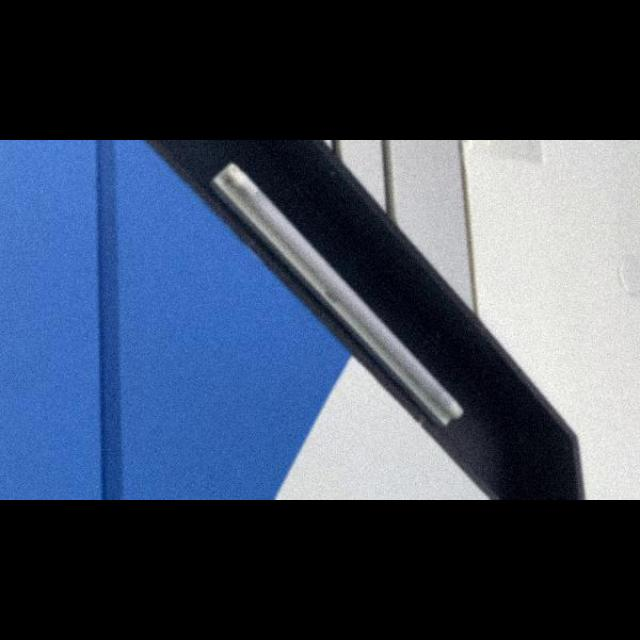Straight-Tube-Fluorescent-Lamp: (203, 155, 471, 441)
